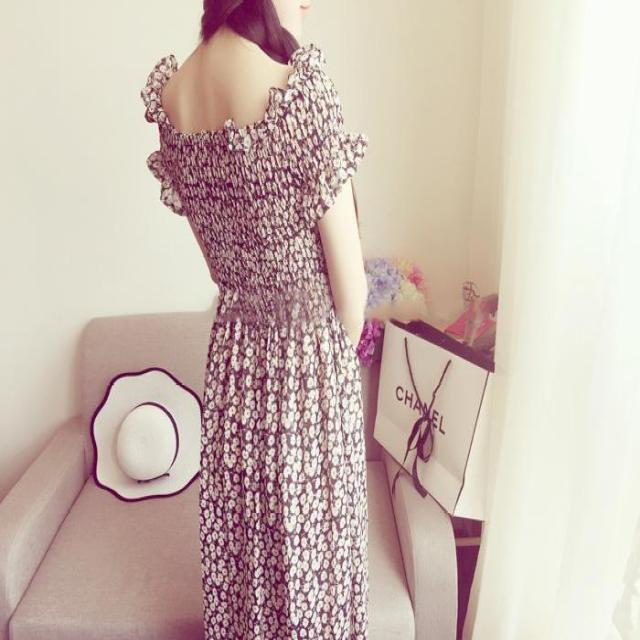short sleeve dress: (141, 44, 370, 640)
